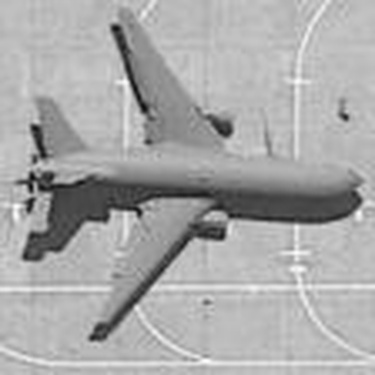airplane: (19, 2, 372, 340)
